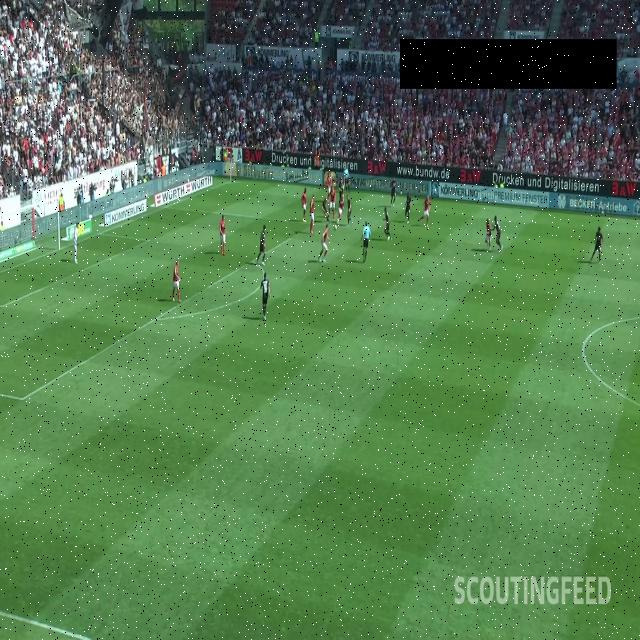Ball: (334, 224, 338, 230)
GoalKeeper: (0, 197, 61, 280), (71, 225, 85, 272)
Referee: (362, 221, 372, 260), (344, 166, 351, 195)
TEAM 1: (172, 260, 184, 304), (317, 227, 330, 262), (308, 192, 316, 235), (420, 196, 431, 227), (328, 186, 337, 220), (300, 186, 308, 224), (220, 218, 228, 255), (484, 220, 492, 252), (326, 171, 332, 200), (338, 195, 344, 222)
TEAM 2: (259, 272, 270, 320), (591, 228, 603, 262), (493, 217, 504, 251), (259, 227, 269, 264), (382, 207, 392, 241), (322, 195, 332, 225), (345, 195, 353, 227), (404, 195, 412, 222), (391, 178, 398, 206), (338, 176, 344, 204)
